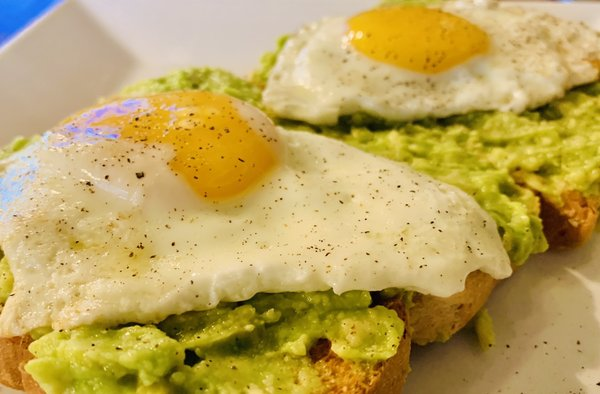soup: (1, 85, 522, 390), (254, 2, 600, 267)
